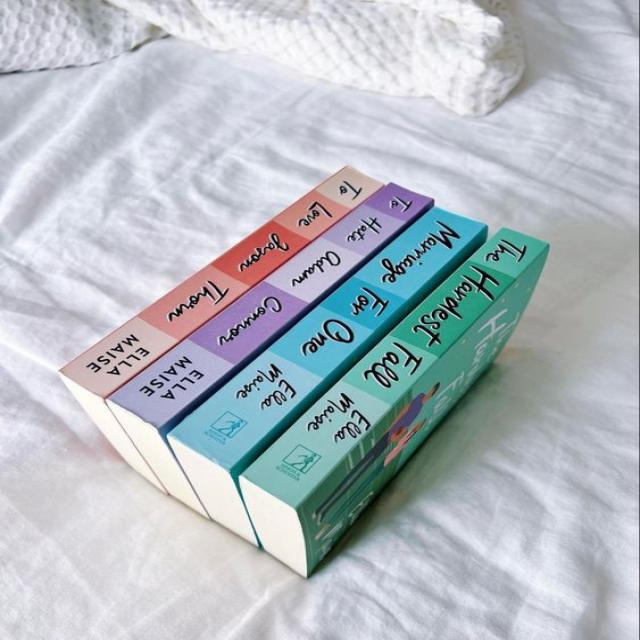book: (240, 227, 546, 509), (166, 203, 483, 470), (112, 183, 430, 425), (61, 168, 381, 401)
